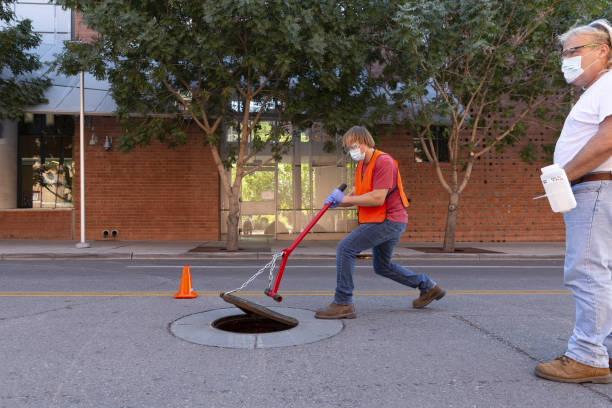open_manhole: (217, 312, 293, 340)
